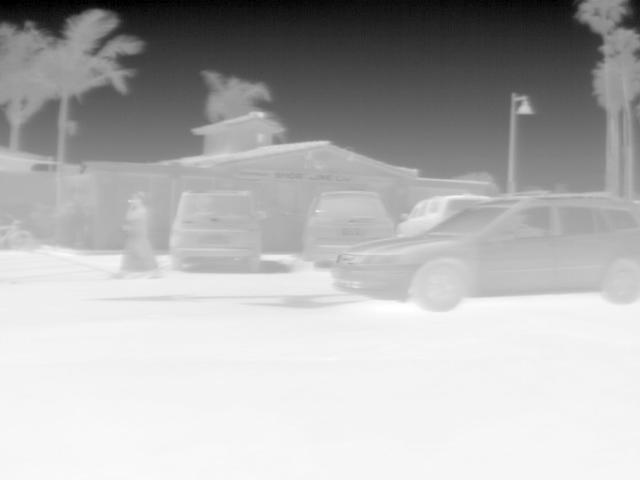car: (329, 191, 637, 312), (165, 187, 264, 273), (301, 190, 395, 264), (397, 191, 492, 237)
person: (108, 192, 163, 280)
